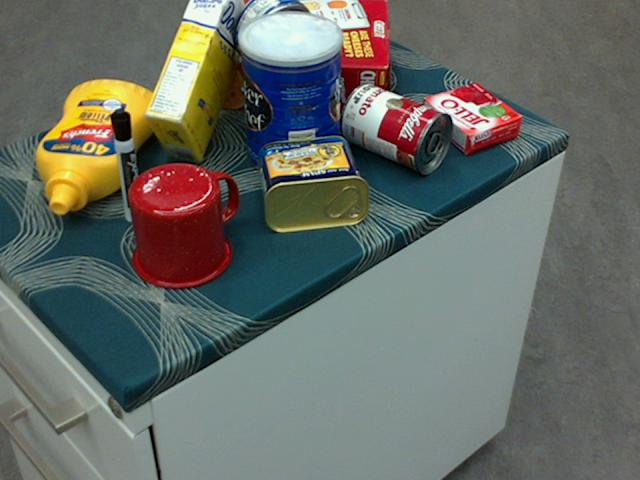cracker_box: (195, 0, 387, 114)
gelatin_box: (421, 83, 521, 153)
large_marker: (108, 108, 145, 221)
master_chef_can: (238, 11, 342, 179)
mug: (128, 161, 239, 288)
mustard_bottle: (34, 80, 157, 214)
potted_meat_can: (255, 133, 369, 233)
sugar_box: (144, 0, 251, 163)
tomato_soup_can: (340, 82, 453, 173)
tuna_fish_can: (232, 0, 313, 71)
